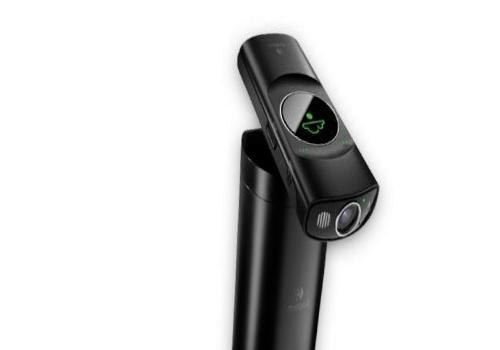webcam: (226, 30, 386, 248)
